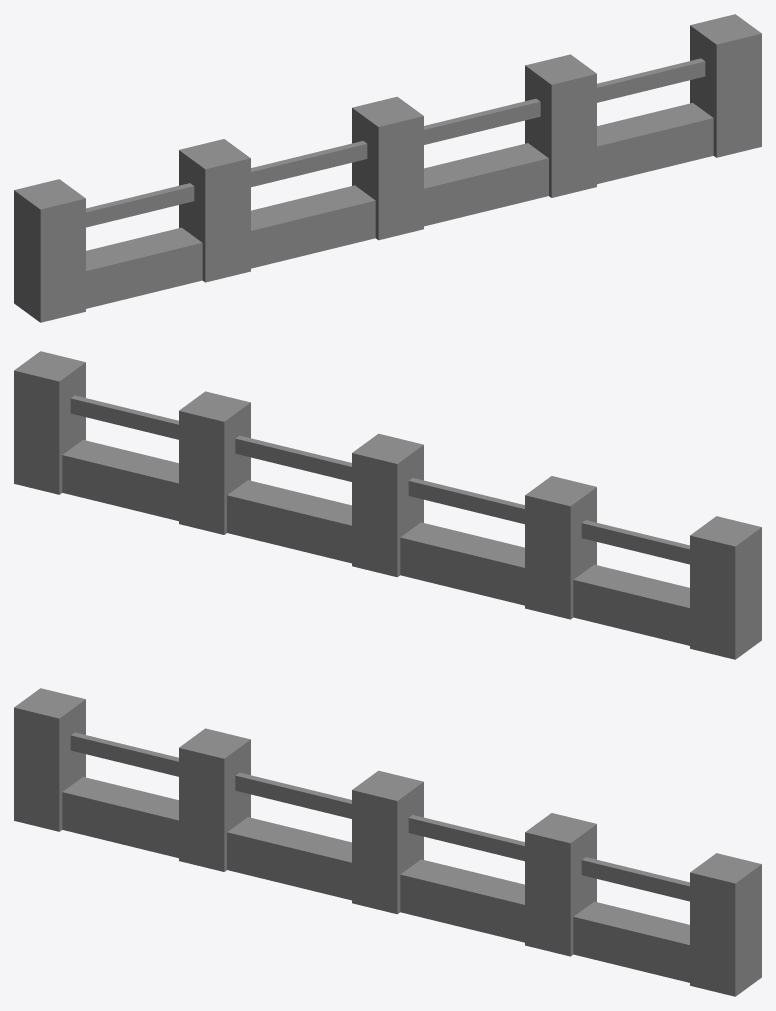
File: fence_04.fbx
The picture shows the model from 3 angles, top to bottom: view 1: azimuth 30°, elevation 25°; view 2: azimuth 150°, elevation 25°; view 3: azimuth 330°, elevation 25°; orthographic projection.
Visible parts, largest first — view 1: fence_04; view 2: fence_04; view 3: fence_04.
Boxes of the visible parts, x1,y1,x2,y2 form: fence_04: (14,14,761,322); fence_04: (14,351,761,659); fence_04: (14,688,761,996).
Size of the model in its own units: 10 by 1.5 by 0.637.
